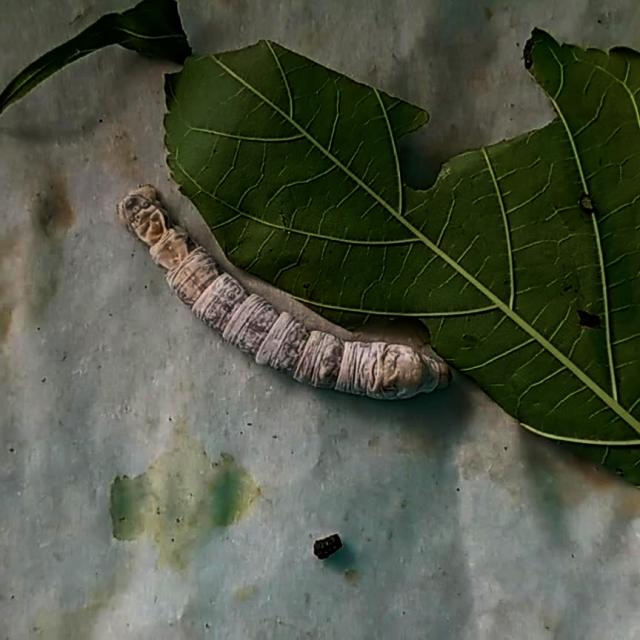Grasserie: (112, 175, 458, 414)
